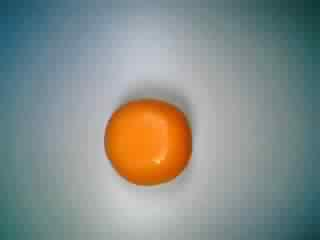orange: (97, 92, 193, 188)
